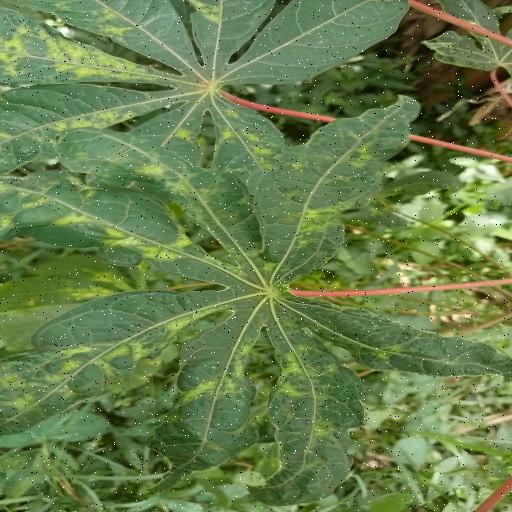Cassava_Mosaic: (0, 98, 512, 508), (0, 0, 413, 229)
